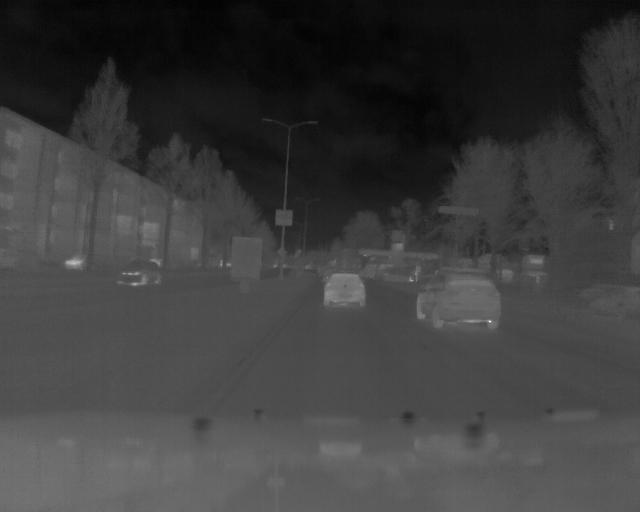car: (411, 269, 505, 337), (316, 272, 367, 310), (112, 259, 167, 291)
